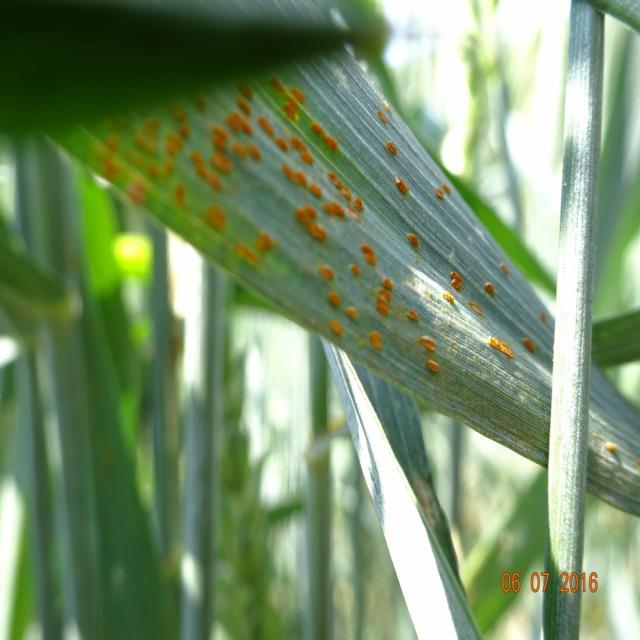wheat-stemrust: (59, 39, 557, 471)
